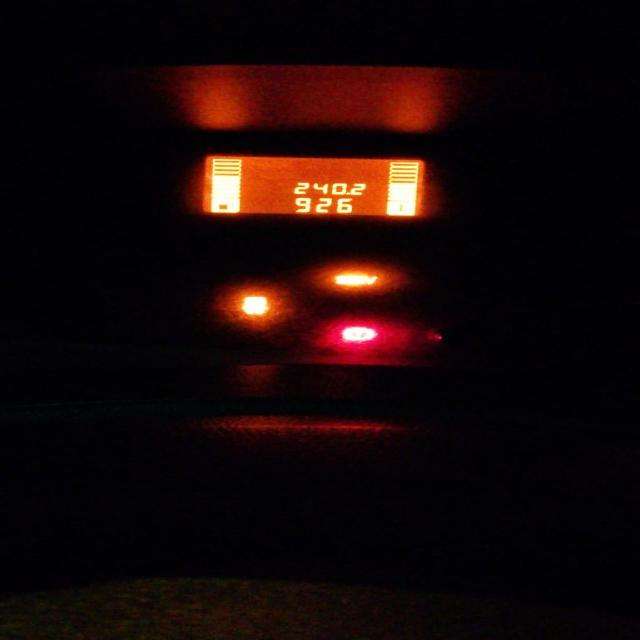odometer: (198, 154, 427, 217)
